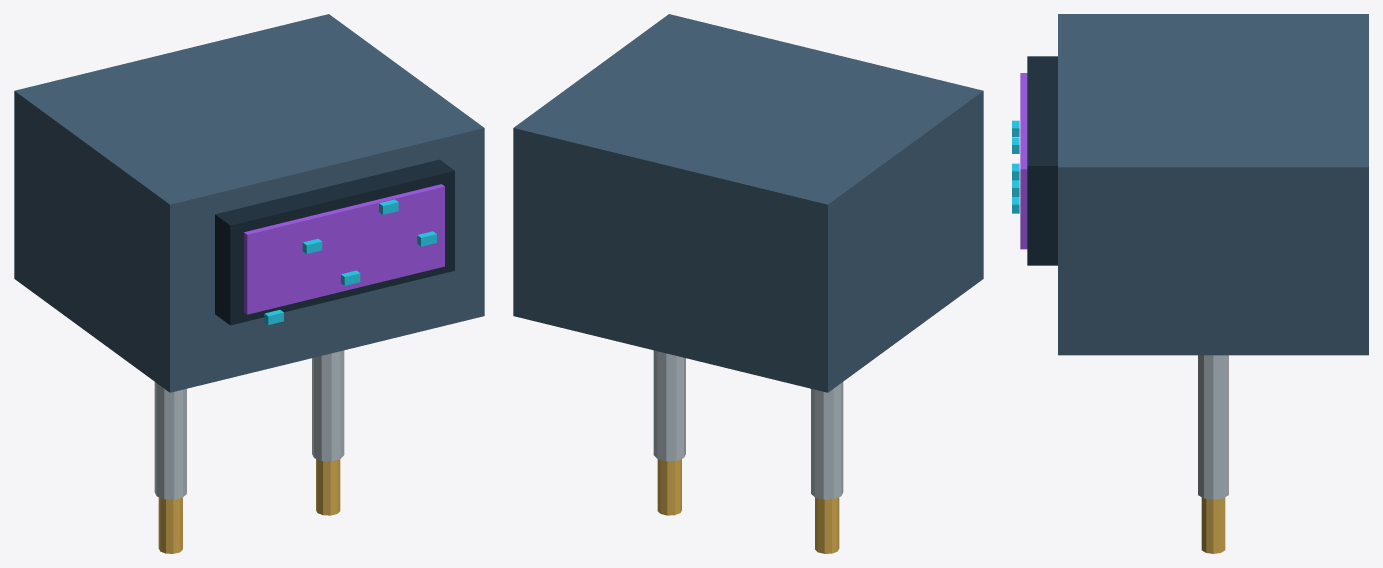
Rendered from 54_L77_InterlineLeakageTestInstrument.fbx.
The picture shows the model from 3 angles, left to right: view 1: azimuth 30°, elevation 25°; view 2: azimuth 150°, elevation 25°; view 3: azimuth 270°, elevation 25°; orthographic projection.
Visible parts, largest first — view 1: InterlineLeakageTestInstrument_Part_0000, InterlineLeakageTestInstrument_Part_0002, InterlineLeakageTestInstrument_Part_0001, InterlineLeakageTestInstrument_Part_0008, InterlineLeakageTestInstrument_Part_0010, InterlineLeakageTestInstrument_Part_0009, InterlineLeakageTestInstrument_Part_0011; view 2: InterlineLeakageTestInstrument_Part_0000, InterlineLeakageTestInstrument_Part_0008, InterlineLeakageTestInstrument_Part_0010, InterlineLeakageTestInstrument_Part_0009, InterlineLeakageTestInstrument_Part_0011; view 3: InterlineLeakageTestInstrument_Part_0000, InterlineLeakageTestInstrument_Part_0001, InterlineLeakageTestInstrument_Part_0010, InterlineLeakageTestInstrument_Part_0002, InterlineLeakageTestInstrument_Part_0011.
Part boxes in pixels (x1,y1,x2,y2): InterlineLeakageTestInstrument_Part_0000: [14, 14, 484, 392]; InterlineLeakageTestInstrument_Part_0002: [244, 184, 444, 314]; InterlineLeakageTestInstrument_Part_0001: [215, 159, 454, 325]; InterlineLeakageTestInstrument_Part_0008: [154, 382, 186, 499]; InterlineLeakageTestInstrument_Part_0010: [312, 350, 344, 461]; InterlineLeakageTestInstrument_Part_0009: [158, 497, 182, 553]; InterlineLeakageTestInstrument_Part_0011: [316, 459, 340, 515]; InterlineLeakageTestInstrument_Part_0000: [513, 14, 983, 392]; InterlineLeakageTestInstrument_Part_0008: [811, 382, 843, 499]; InterlineLeakageTestInstrument_Part_0010: [653, 350, 685, 461]; InterlineLeakageTestInstrument_Part_0009: [815, 497, 839, 553]; InterlineLeakageTestInstrument_Part_0011: [657, 459, 681, 515]; InterlineLeakageTestInstrument_Part_0000: [1058, 14, 1368, 355]; InterlineLeakageTestInstrument_Part_0001: [1027, 56, 1057, 265]; InterlineLeakageTestInstrument_Part_0010: [1198, 355, 1228, 499]; InterlineLeakageTestInstrument_Part_0002: [1020, 73, 1027, 249]; InterlineLeakageTestInstrument_Part_0011: [1201, 497, 1225, 553].
Bounding box in the file's own units: 56 × 71.5 × 55.1.
